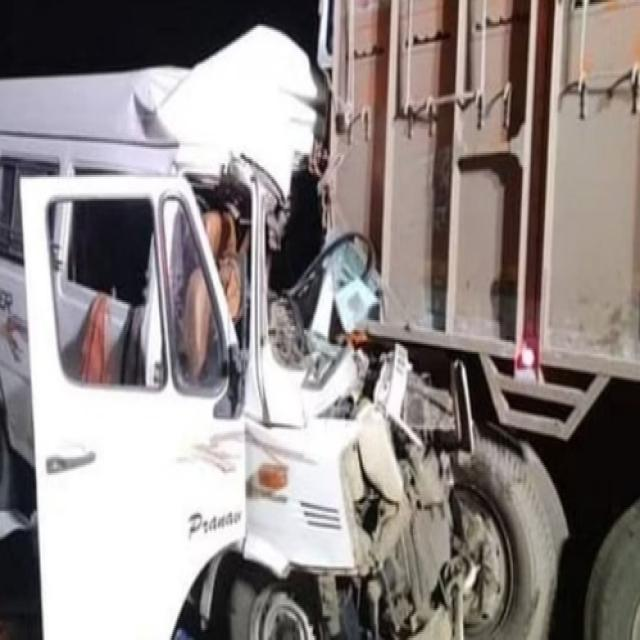accident: (0, 27, 476, 638)
